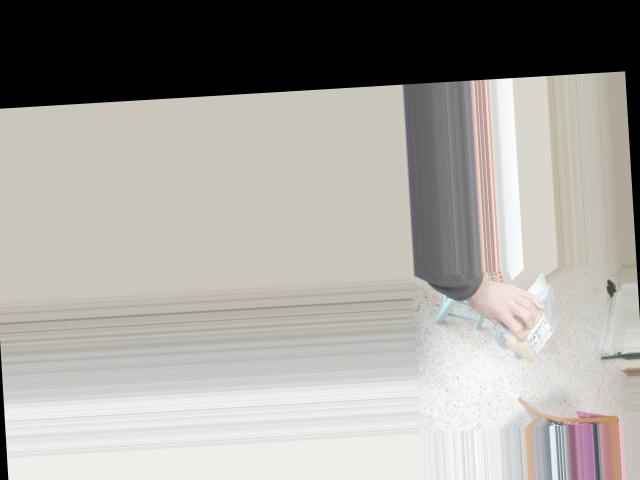cheese: (508, 272, 557, 373)
